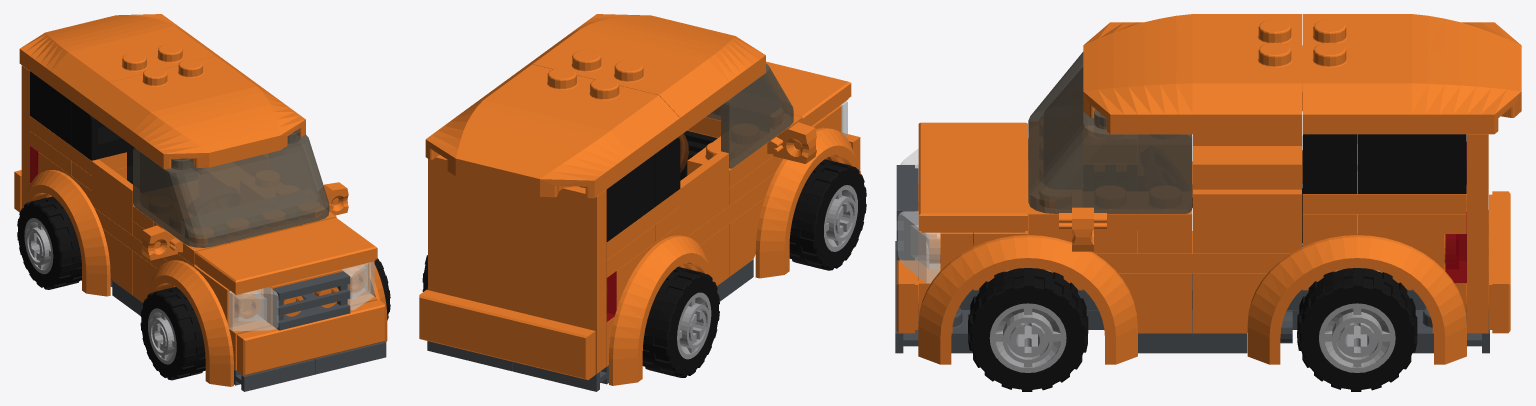
File: car2.glb
The picture shows the model from 3 angles, left to right: view 1: azimuth 30°, elevation 25°; view 2: azimuth 150°, elevation 25°; view 3: azimuth 270°, elevation 25°; orthographic projection. The views are drawn at different scales.
Parts seen in each view (by area): view 1: Part.65, Part.64, Part.66, Part.41, Part.37, Part.9, Part.3, Part.75, Part.76, Part.36, Part.40, Part.24 (+20 smaller); view 2: Part.50, Part.66, Part.65, Part.51, Part.3, Part.9, Part.76, Part.75, Part.64, Part.24, Part.41, Part.59 (+22 smaller); view 3: Part.66, Part.65, Part.64, Part.41, Part.4, Part.8, Part.74, Part.73, Part.25, Part.60, Part.24, Part.50 (+28 smaller).
Part boxes in pixels (bbox=[...]): Part.65: bbox=[91, 56, 305, 168]; Part.64: bbox=[133, 128, 329, 247]; Part.66: bbox=[19, 14, 232, 115]; Part.41: bbox=[194, 217, 377, 294]; Part.37: bbox=[237, 300, 385, 375]; Part.9: bbox=[145, 260, 233, 386]; Part.3: bbox=[22, 170, 110, 296]; Part.75: bbox=[140, 287, 205, 380]; Part.76: bbox=[17, 196, 81, 289]; Part.36: bbox=[215, 263, 377, 370]; Part.40: bbox=[272, 271, 350, 330]; Part.24: bbox=[91, 159, 133, 235]; Part.50: bbox=[428, 155, 606, 373]; Part.66: bbox=[425, 64, 680, 198]; Part.65: bbox=[512, 14, 765, 135]; Part.51: bbox=[419, 289, 595, 379]; Part.3: bbox=[609, 235, 714, 385]; Part.9: bbox=[755, 127, 860, 278]; Part.76: bbox=[642, 267, 719, 377]; Part.75: bbox=[789, 159, 866, 270]; Part.64: bbox=[706, 63, 793, 168]; Part.24: bbox=[680, 151, 728, 236]; Part.41: bbox=[766, 61, 851, 126]; Part.59: bbox=[606, 154, 655, 241]; Part.66: bbox=[1302, 14, 1521, 134]; Part.65: bbox=[1083, 14, 1301, 134]; Part.64: bbox=[1028, 52, 1192, 213]; Part.41: bbox=[918, 122, 1027, 232]; Part.4: bbox=[1247, 235, 1466, 364]; Part.8: bbox=[918, 208, 1137, 364]; Part.74: bbox=[1297, 268, 1417, 391]; Part.73: bbox=[968, 268, 1088, 391]; Part.25: bbox=[1193, 189, 1301, 253]; Part.60: bbox=[1357, 134, 1466, 193]; Part.24: bbox=[1193, 134, 1301, 184]; Part.50: bbox=[1467, 134, 1488, 333].
Size of the model in its own units: 47.96 by 46.36 by 91.32.
